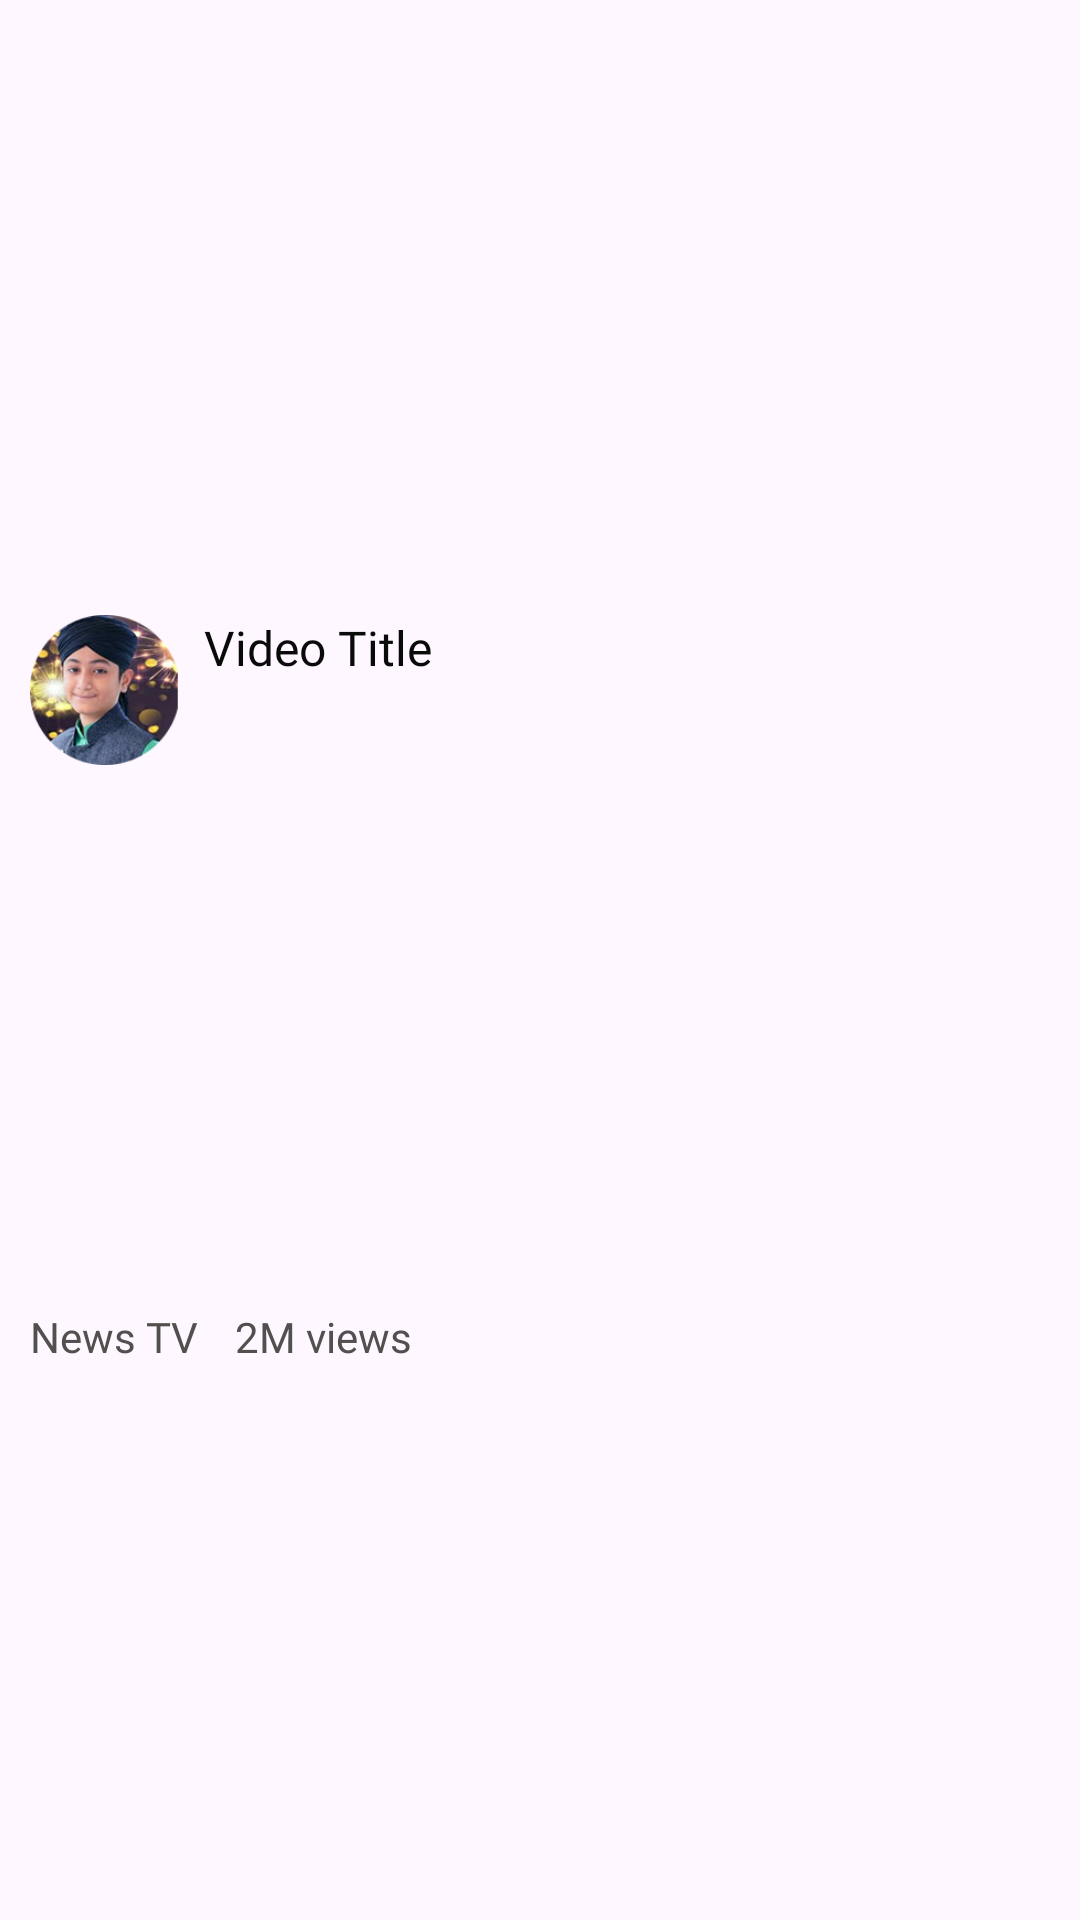

Where to tap for icons on this 1080*1920 app screen, as [x,y]:
home screen example channel: [104,690]
